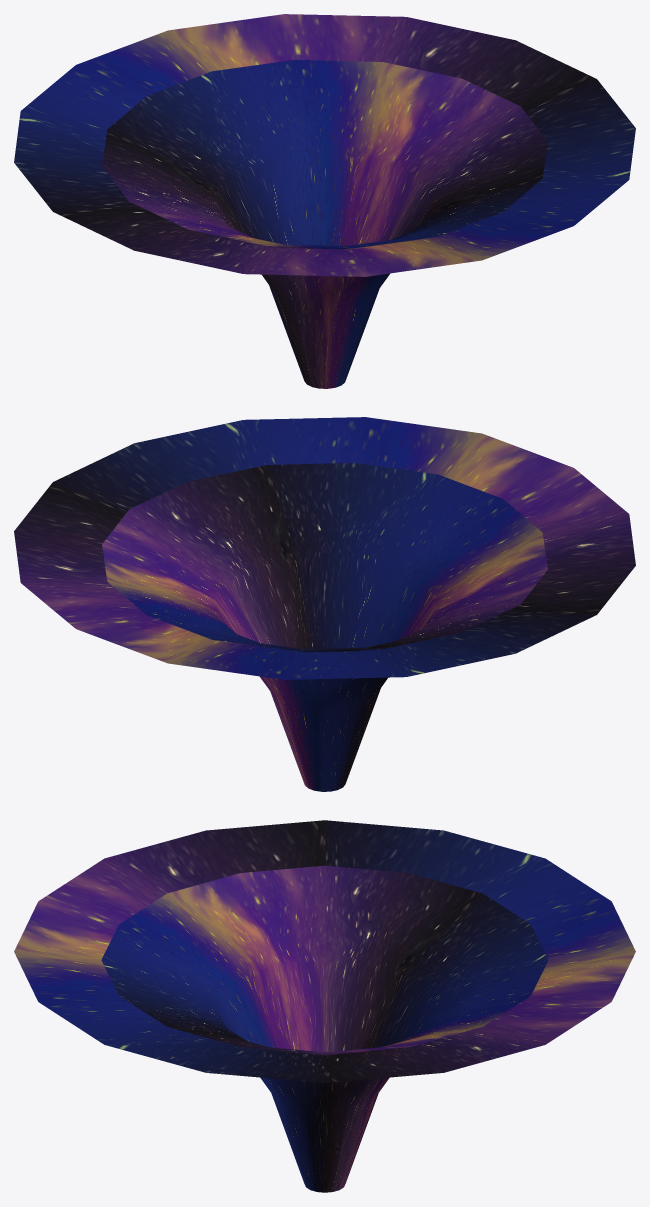
The model's file is wormholie.fbx.
3 views of the same model, one above another, from view 1: azimuth 30°, elevation 25°; view 2: azimuth 150°, elevation 25°; view 3: azimuth 270°, elevation 25° (orthographic).
Visible parts, largest first — view 1: Plane; view 2: Plane; view 3: Plane.
Part boxes in pixels (left/top/right/bottom): Plane: left=14, top=14, right=635, bottom=388; Plane: left=14, top=417, right=635, bottom=791; Plane: left=14, top=820, right=635, bottom=1192.
Size of the model in its own units: 5.55 by 2.29 by 5.55.
